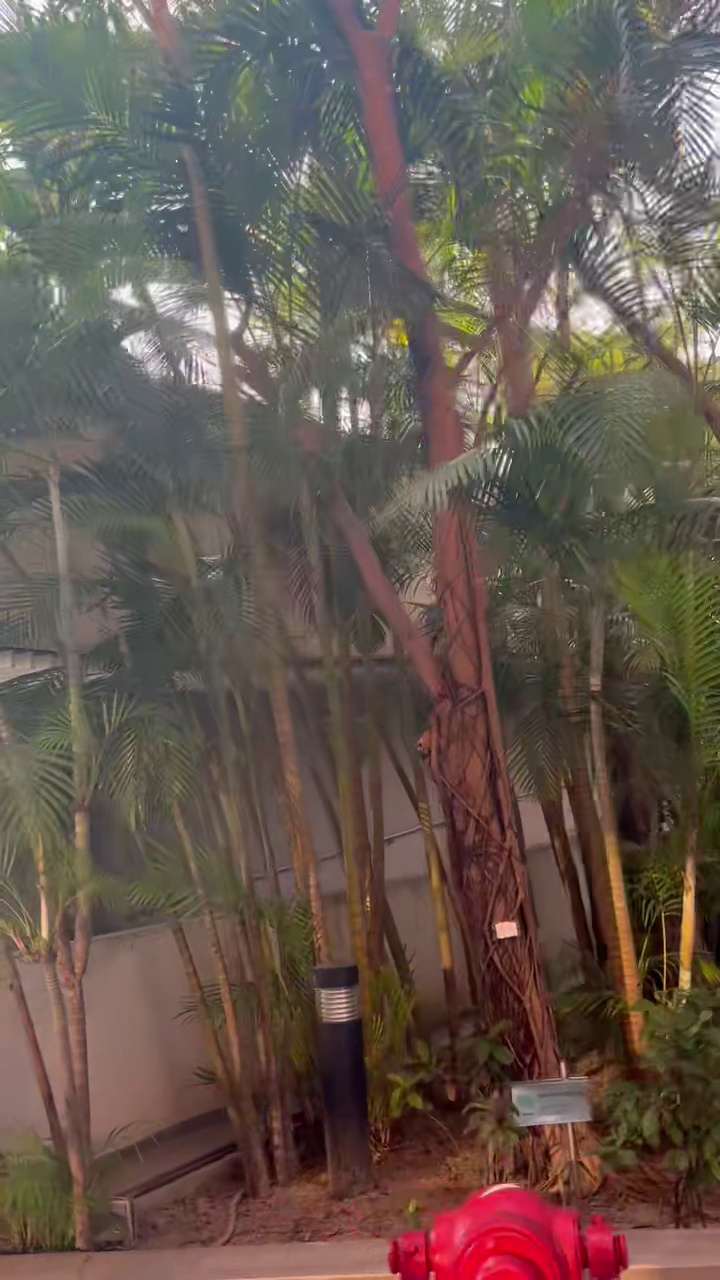Ficus benjamina: (331, 0, 558, 1078)
